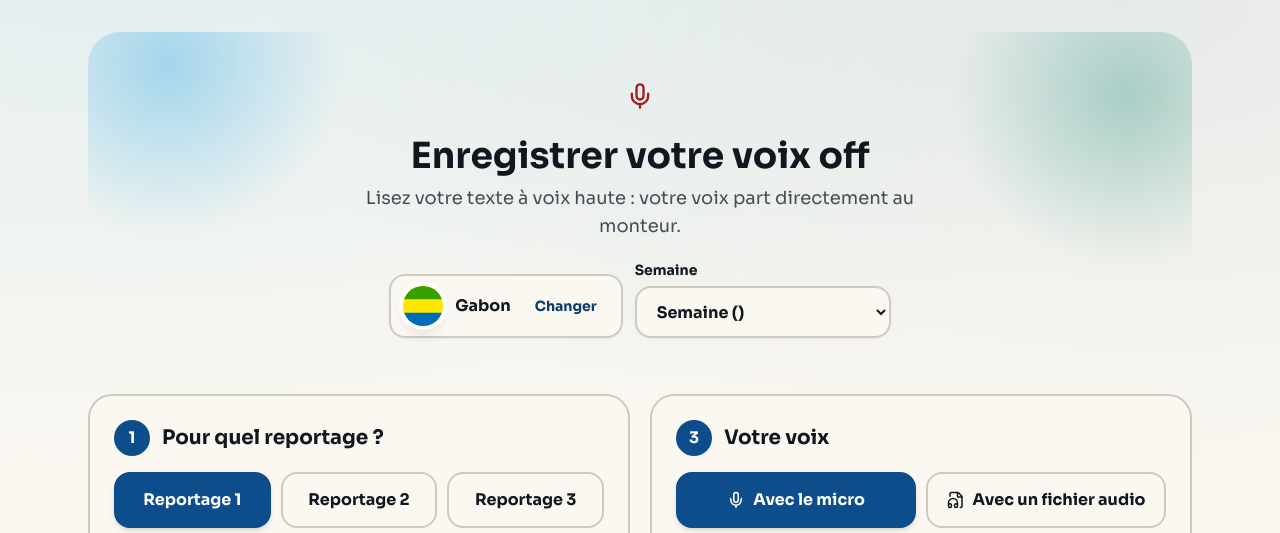
Test: StudioVoixJournaliste › avec un fichier audio : un grand bouton pour le choisir
Click the button "Avec un fichier audio": (1046, 500) [926,472,1166,528]
(page scrolled)
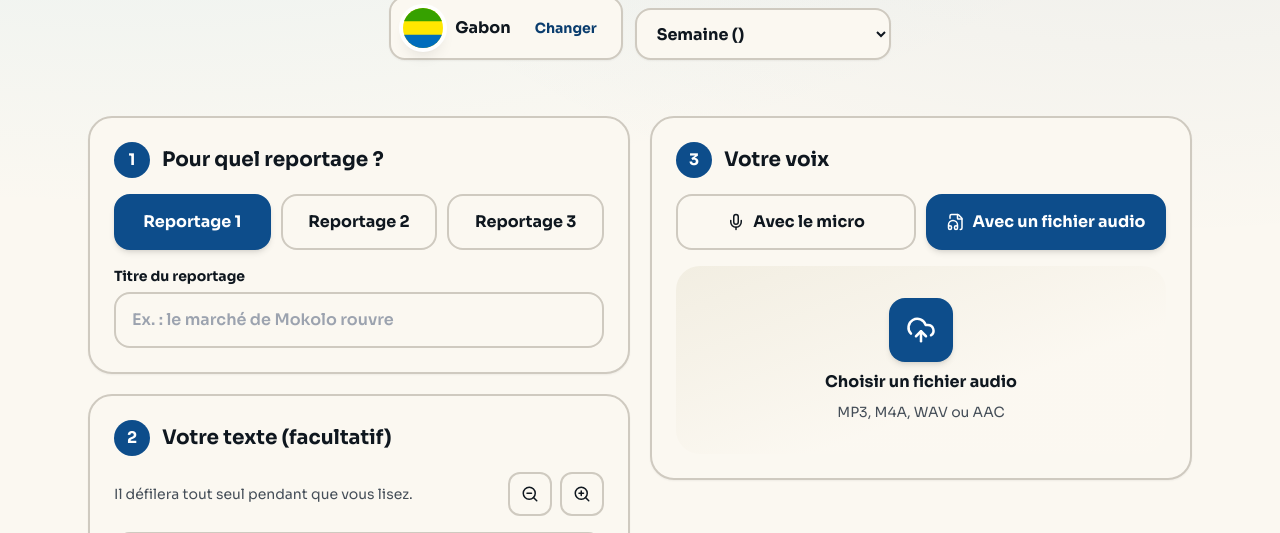
Result: the button "Choisir un fichier audio MP3, M4A, WAV ou AAC" is shown at [676,266,1166,454]
